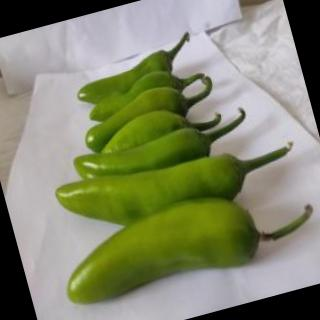Cabai Hijau: (49, 168, 320, 313), (50, 122, 307, 247)
